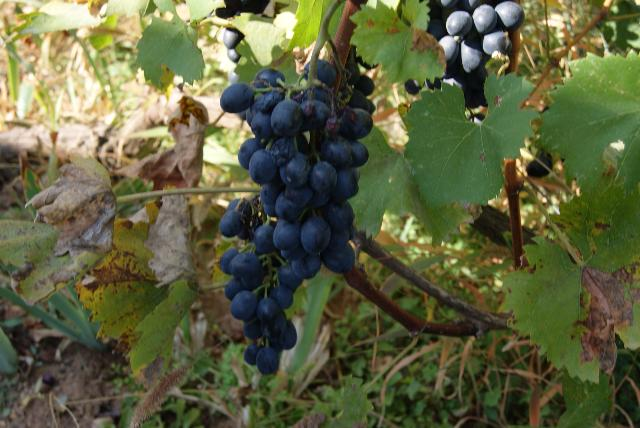grapes: (219, 60, 372, 375)
